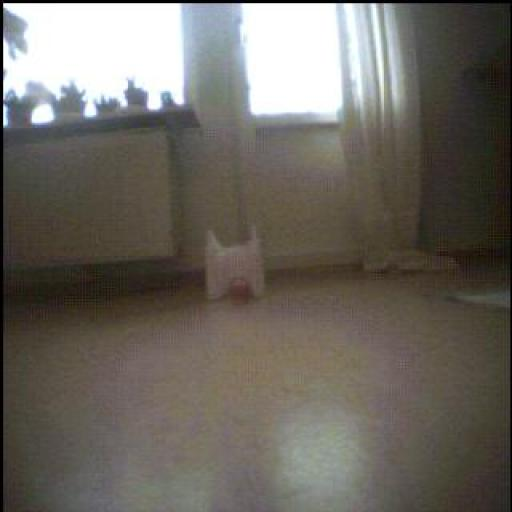Basket: (230, 273, 255, 302)
